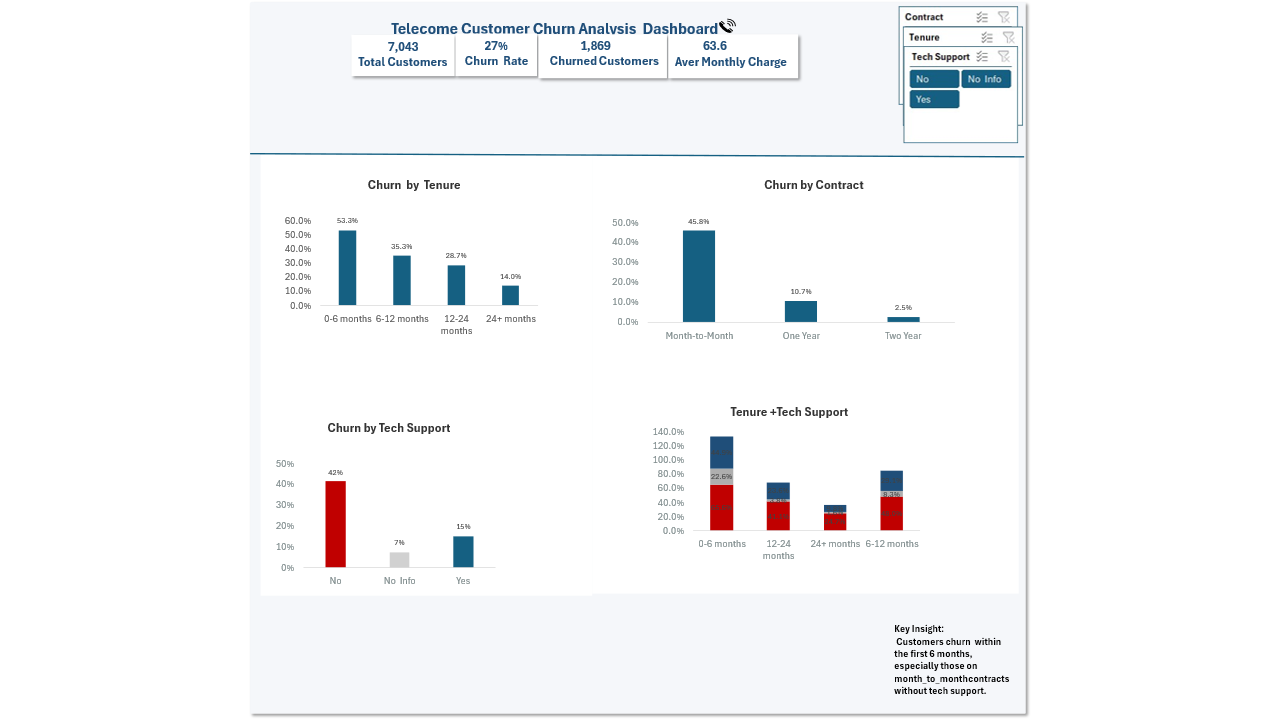

The page's visual inventory and layout, read from the dashboard file:
{"tool":"powerbi","page":{"name":"Page 1","canvas":[1800,1400],"ordinal":0},"visuals":[{"type":"shape","box":[331.1,333.3,1255.6,1066.7],"z":0},{"type":"card","fields":{"Values":["public churn_analysis_view.Total Customers"]},"box":[0,116.7,282.2,95.6],"z":1000},{"type":"card","fields":{"Values":["public churn_analysis_view.Measure 2 Churn Rate"]},"box":[339.8,116.7,280,95.6],"z":2000},{"type":"hundredPercentStackedColumnChart","title":" Churn Rate by Customer Tenure ","fields":{"Category":["public churn_analysis_view.tenure_group"],"Series":["public churn_analysis_view.customer_status"],"Y":["Count(public churn_analysis_view.customer_id)"]},"box":[1060,333.3,526.7,628.9],"z":3000},{"type":"clusteredColumnChart","title":"Churn Rate by Tech Support Status","fields":{"Y":["public churn_analysis_view.Churn Rate percentage"],"Category":["public churn_analysis_view.Tech Support clean"]},"box":[395.4,986.2,593.8,413.8],"z":4000},{"type":"card","fields":{"Values":["public churn_analysis_view.Total Revenue"]},"box":[1015,116.7,278.3,96.7],"z":5000},{"type":"card","fields":{"Values":["public churn_analysis_view.Avg Monthly Charge"]},"box":[677.4,116.7,280,96.7],"z":6000},{"type":"hundredPercentStackedColumnChart","title":"Customer Retention by Tenure & Tech Support","fields":{"Category":["public churn_analysis_view.tenure_group"],"Y":["CountNonNull(public churn_analysis_view.customer_id)"],"Series":["public churn_analysis_view.Tech Support clean"]},"box":[1047.1,961.8,579.4,438.2],"z":7000},{"type":"slicer","title":"Filter by contract","fields":{"Values":["public churn_analysis_view.contract"]},"box":[15.6,555.6,253.3,144.4],"z":8000},{"type":"clusteredColumnChart","title":"Churn Risk by  Contract Type","fields":{"Category":["public churn_analysis_view.contract"],"Y":["public churn_analysis_view.Churn Rate by Contract"]},"box":[420.6,332.4,594.1,617.6],"z":9000},{"type":"textbox","box":[0,0,618.5,86.2],"z":10000},{"type":"textbox","box":[1371.1,0,428.9,231.1],"z":11000},{"type":"shape","box":[0,245,1800,13.3],"z":14000},{"type":"shape","box":[397.1,950,1182.4,11.8],"z":15000}]}

Visuals, with their boxes on the page's 1800x1400 design canvas (x1, y1, x2, y2). These are canvas units, not pixel positions in the 1280x720 screenshot, which may show the page scaled, cropped or inside an application window:
shape: box(331, 333, 1587, 1400)
card - public churn_analysis_view.Total Customers: box(0, 117, 282, 212)
card - public churn_analysis_view.Measure 2 Churn Rate: box(340, 117, 620, 212)
" Churn Rate by Customer Tenure " hundredPercentStackedColumnChart: box(1060, 333, 1587, 962)
"Churn Rate by Tech Support Status" clusteredColumnChart: box(395, 986, 989, 1400)
card - public churn_analysis_view.Total Revenue: box(1015, 117, 1293, 213)
card - public churn_analysis_view.Avg Monthly Charge: box(677, 117, 957, 213)
"Customer Retention by Tenure & Tech Support" hundredPercentStackedColumnChart: box(1047, 962, 1626, 1400)
"Filter by contract" slicer: box(16, 556, 269, 700)
"Churn Risk by  Contract Type" clusteredColumnChart: box(421, 332, 1015, 950)
textbox: box(0, 0, 618, 86)
textbox: box(1371, 0, 1800, 231)
shape: box(0, 245, 1800, 258)
shape: box(397, 950, 1580, 962)
